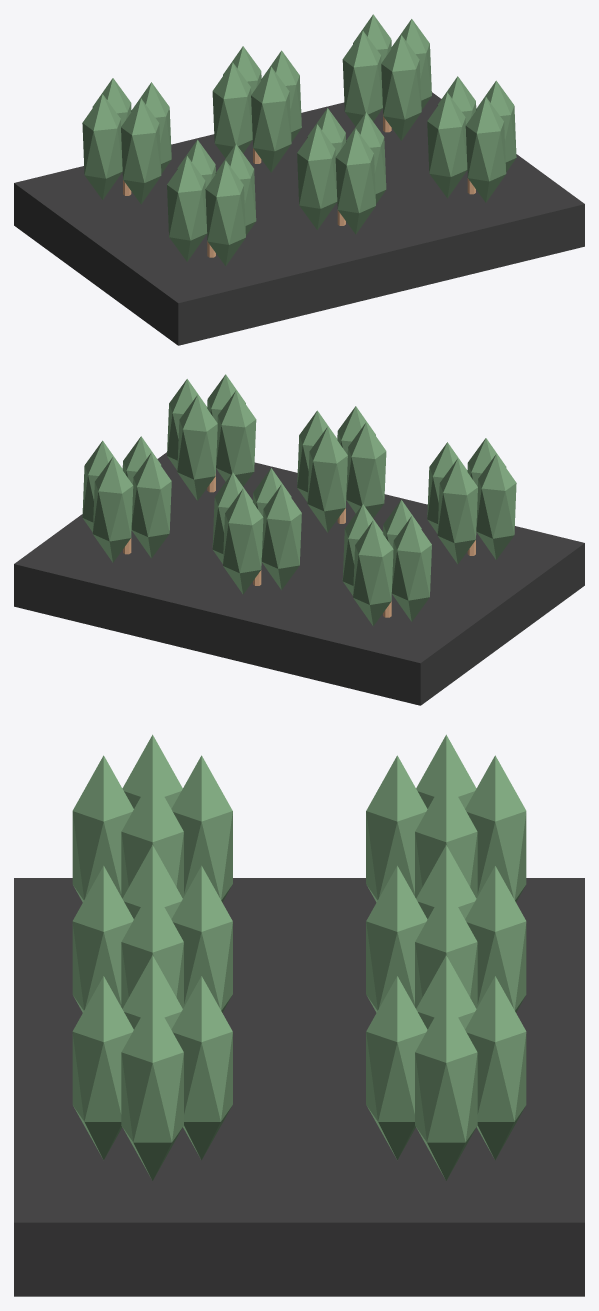
The picture shows the model from 3 angles, top to bottom: view 1: azimuth 30°, elevation 25°; view 2: azimuth 150°, elevation 25°; view 3: azimuth 270°, elevation 25°; orthographic projection. The views are drawn at different scales.
Visible parts, largest first — view 1: Tray, Leaf.007, Leaf.015, Leaf.019, Leaf.003, Leaf.011, Leaf.023, Leaf.002, Leaf.006, Leaf.018, Leaf.010, Leaf.022 (+13 smaller); view 2: Tray, Leaf.001, Leaf.009, Leaf.021, Leaf.005, Leaf.013, Leaf.017, Leaf.006, Leaf.002, Leaf.022, Leaf.014, Leaf.018 (+13 smaller); view 3: Tray, Leaf.016, Leaf.020, Leaf.019, Leaf.021, Leaf.017, Leaf.023, Leaf.011, Leaf.013, Leaf.003, Leaf.005, Leaf.001 (+13 smaller).
Boxes of the visible parts, x1=… form: Tray: x1=14, y1=92, x2=584, y2=345; Leaf.007: x1=121, y1=98, x2=161, y2=204; Leaf.015: x1=251, y1=66, x2=291, y2=172; Leaf.019: x1=465, y1=97, x2=506, y2=202; Leaf.003: x1=205, y1=160, x2=245, y2=266; Leaf.011: x1=335, y1=128, x2=375, y2=234; Leaf.023: x1=381, y1=35, x2=421, y2=140; Leaf.002: x1=167, y1=156, x2=207, y2=261; Leaf.006: x1=82, y1=94, x2=122, y2=199; Leaf.018: x1=427, y1=92, x2=467, y2=198; Leaf.010: x1=297, y1=124, x2=337, y2=229; Leaf.022: x1=342, y1=31, x2=382, y2=126; Tray: x1=14, y1=452, x2=584, y2=705; Leaf.001: x1=437, y1=458, x2=477, y2=564; Leaf.009: x1=307, y1=426, x2=347, y2=532; Leaf.021: x1=92, y1=457, x2=133, y2=562; Leaf.005: x1=353, y1=520, x2=393, y2=626; Leaf.013: x1=223, y1=488, x2=263, y2=594; Leaf.017: x1=177, y1=395, x2=217, y2=500; Leaf.006: x1=391, y1=516, x2=431, y2=621; Leaf.002: x1=476, y1=454, x2=516, y2=559; Leaf.022: x1=131, y1=452, x2=171, y2=558; Leaf.014: x1=261, y1=484, x2=301, y2=589; Leaf.018: x1=216, y1=391, x2=256, y2=486; Tray: x1=14, y1=878, x2=584, y2=1296; Leaf.016: x1=121, y1=996, x2=183, y2=1180; Leaf.020: x1=415, y1=996, x2=477, y2=1180; Leaf.019: x1=72, y1=976, x2=133, y2=1160; Leaf.021: x1=465, y1=976, x2=526, y2=1160; Leaf.017: x1=171, y1=976, x2=232, y2=1160; Leaf.023: x1=366, y1=976, x2=427, y2=1160; Leaf.011: x1=72, y1=866, x2=133, y2=1012; Leaf.013: x1=465, y1=866, x2=526, y2=1012; Leaf.003: x1=72, y1=755, x2=133, y2=902; Leaf.005: x1=465, y1=755, x2=526, y2=902; Leaf.001: x1=171, y1=755, x2=232, y2=902.
Bounding box in the file's own units: 50 × 17.5 × 35.
